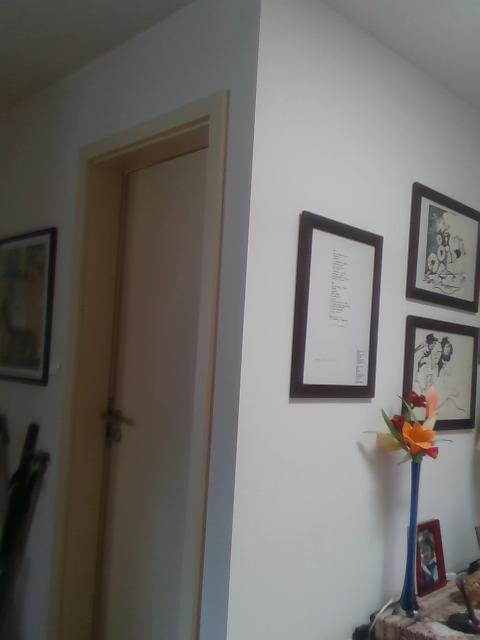door: (97, 147, 210, 640)
